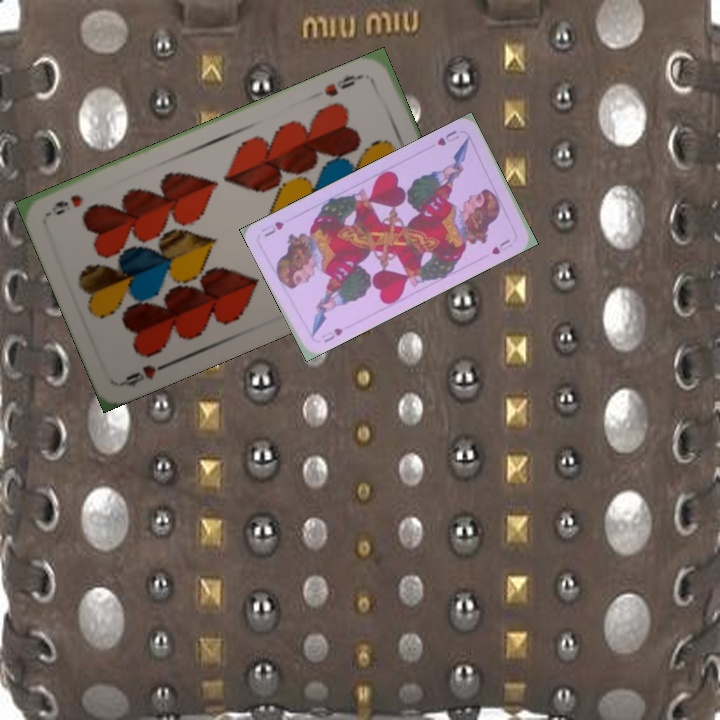H9: (119, 357, 175, 389), (320, 70, 369, 99)
HU: (433, 126, 461, 149), (317, 324, 346, 345)
